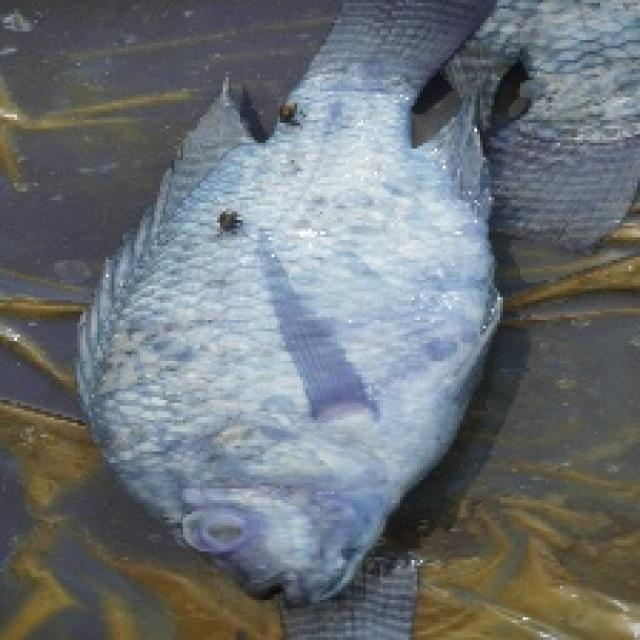Non-Fresh: (87, 8, 461, 621)
